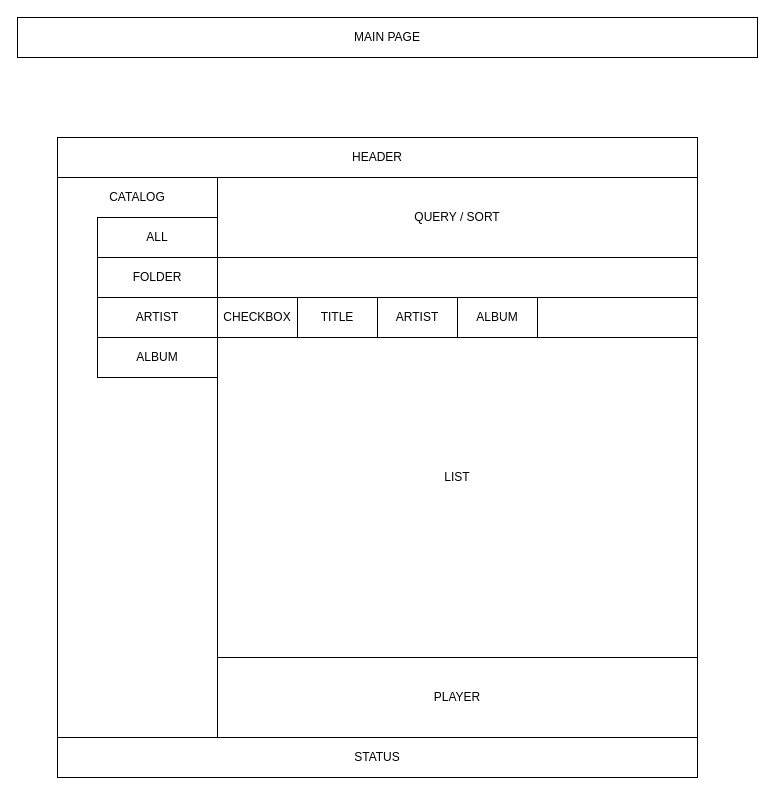
Image size: 775x795. Some labels were removed from this diagram. Each missing label, with the centre of its shape:
"ACTION" belongs at (x=457, y=277).
"BUTTONS" belongs at (x=617, y=317).
